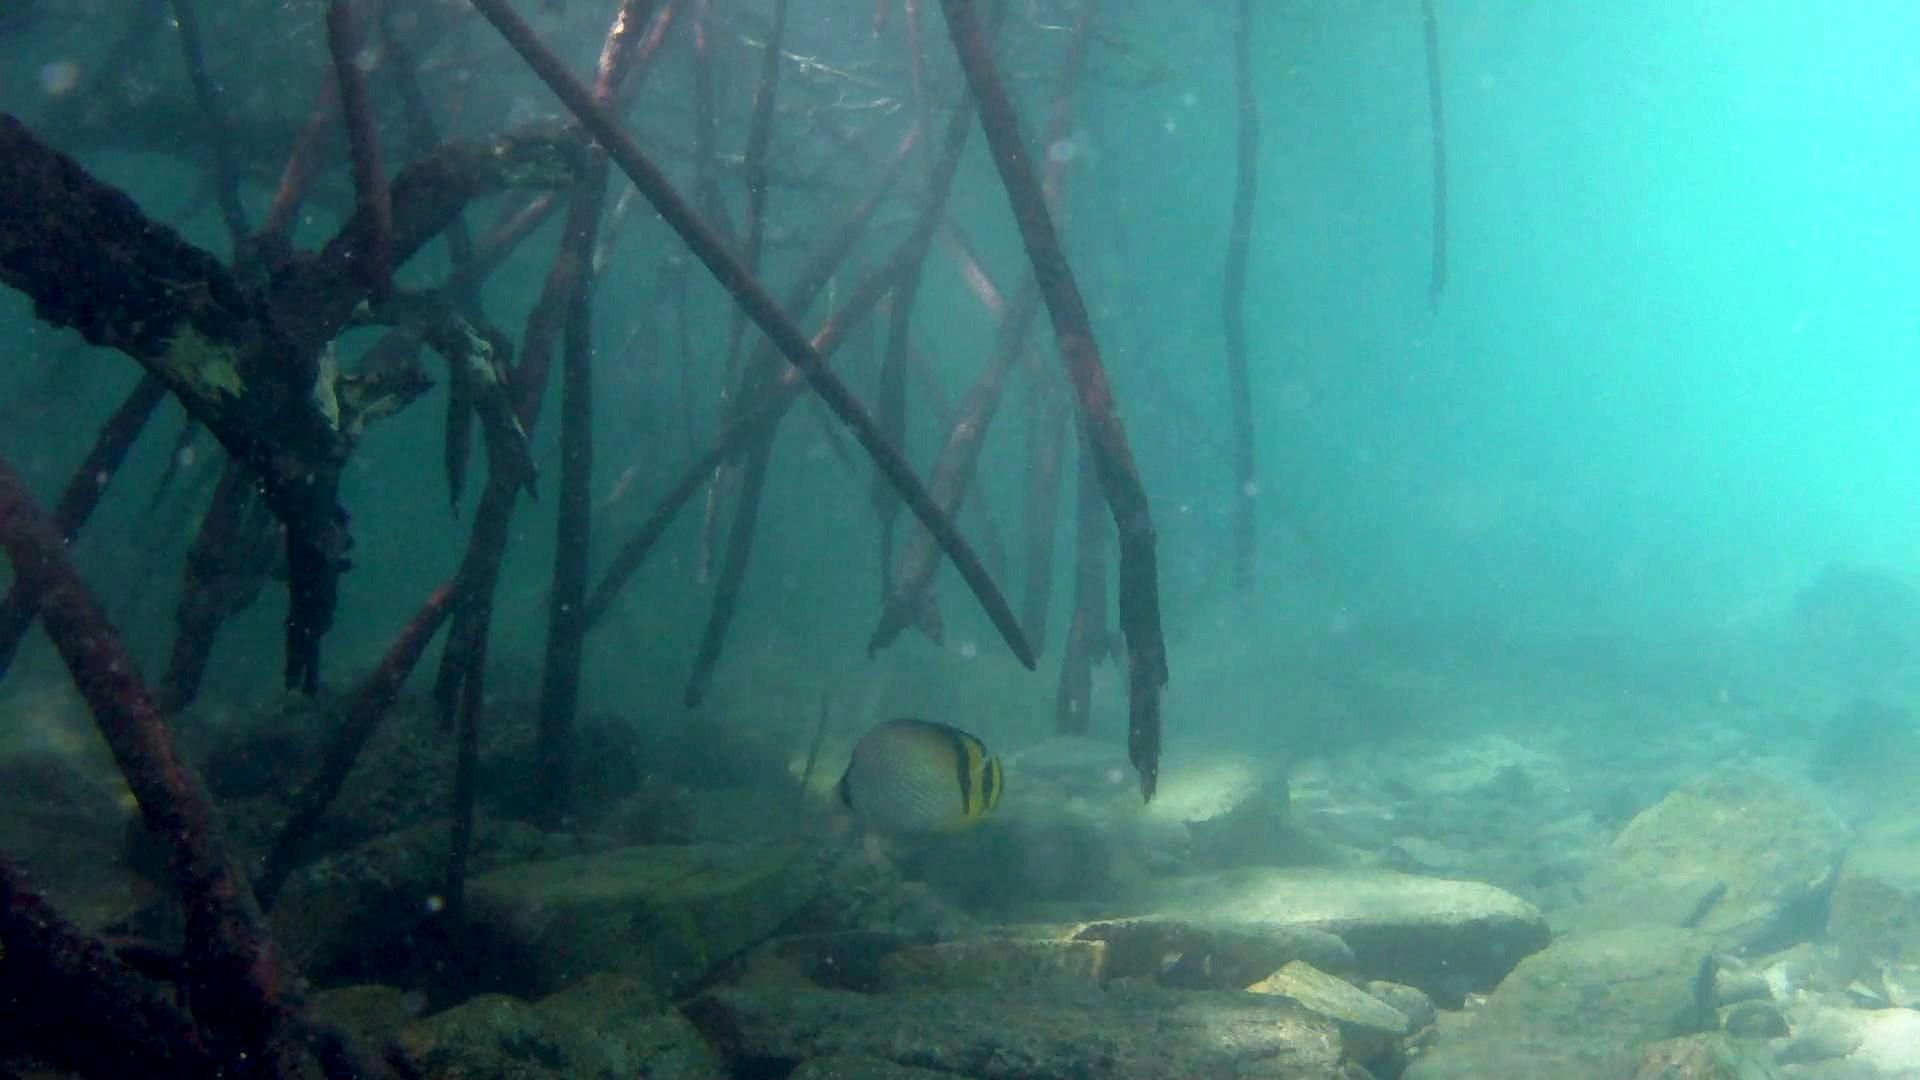chaetodon vagabundus: (816, 714, 1009, 841)
